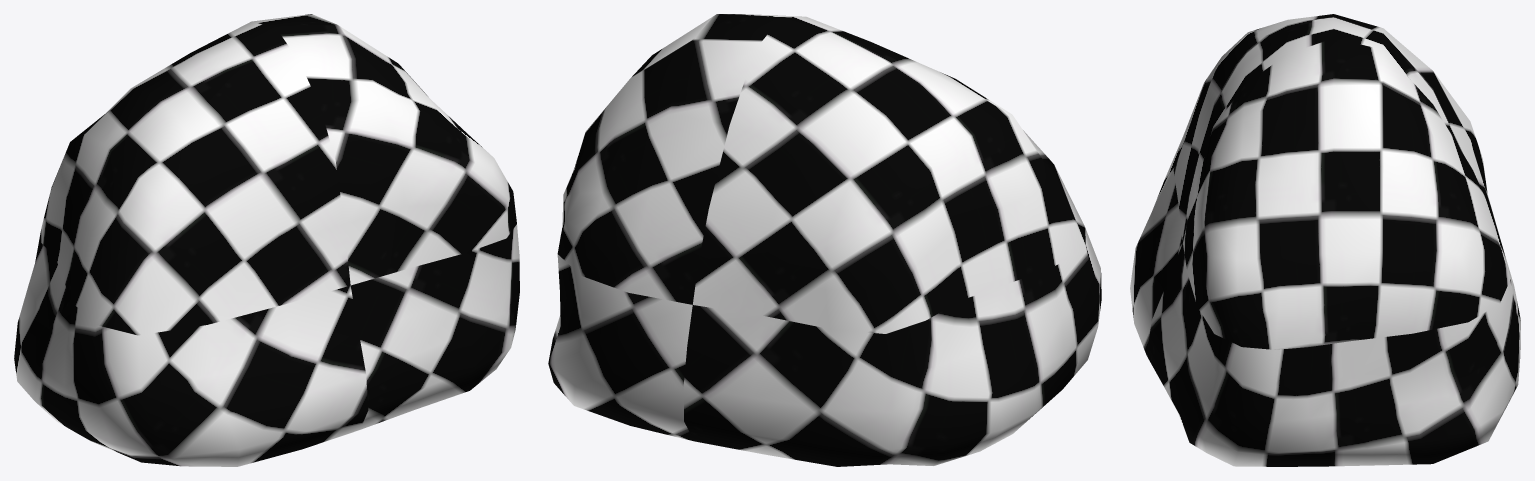
File: Rock2.fbx
The picture shows the model from 3 angles, left to right: view 1: azimuth 30°, elevation 25°; view 2: azimuth 150°, elevation 25°; view 3: azimuth 270°, elevation 25°; orthographic projection. The views are drawn at different scales.
Parts seen in each view (by area): view 1: Rock1; view 2: Rock1; view 3: Rock1.
Part boxes in pixels (x1,y1,x2,y2): Rock1: (14, 14, 519, 466); Rock1: (548, 14, 1101, 466); Rock1: (1130, 14, 1520, 466).
Size of the model in its own units: 0.743 by 0.5545 by 0.5567.
